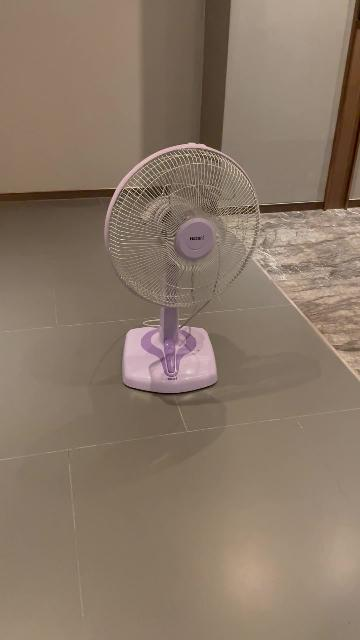Fan: (105, 143, 260, 395)
